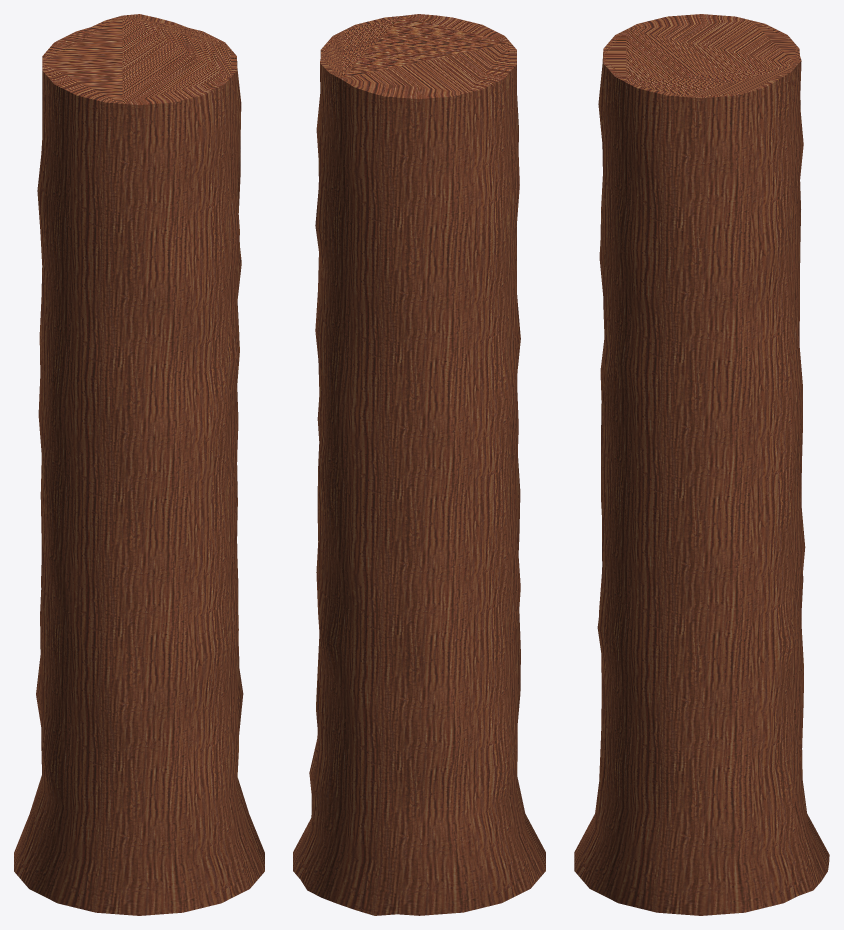
The model's file is Big_Log_1.FBX.
3 views of the same model, side by side, from view 1: azimuth 30°, elevation 25°; view 2: azimuth 150°, elevation 25°; view 3: azimuth 270°, elevation 25° (orthographic).
Parts seen in each view (by area): view 1: Cylinder001; view 2: Cylinder001; view 3: Cylinder001.
Part boxes in pixels (x1,y1,x2,y2): Cylinder001: (14, 14, 264, 915); Cylinder001: (293, 14, 545, 915); Cylinder001: (574, 14, 829, 915).
Size of the model in its own units: 92.28 by 322 by 91.58.
1 material, 1 textured.
